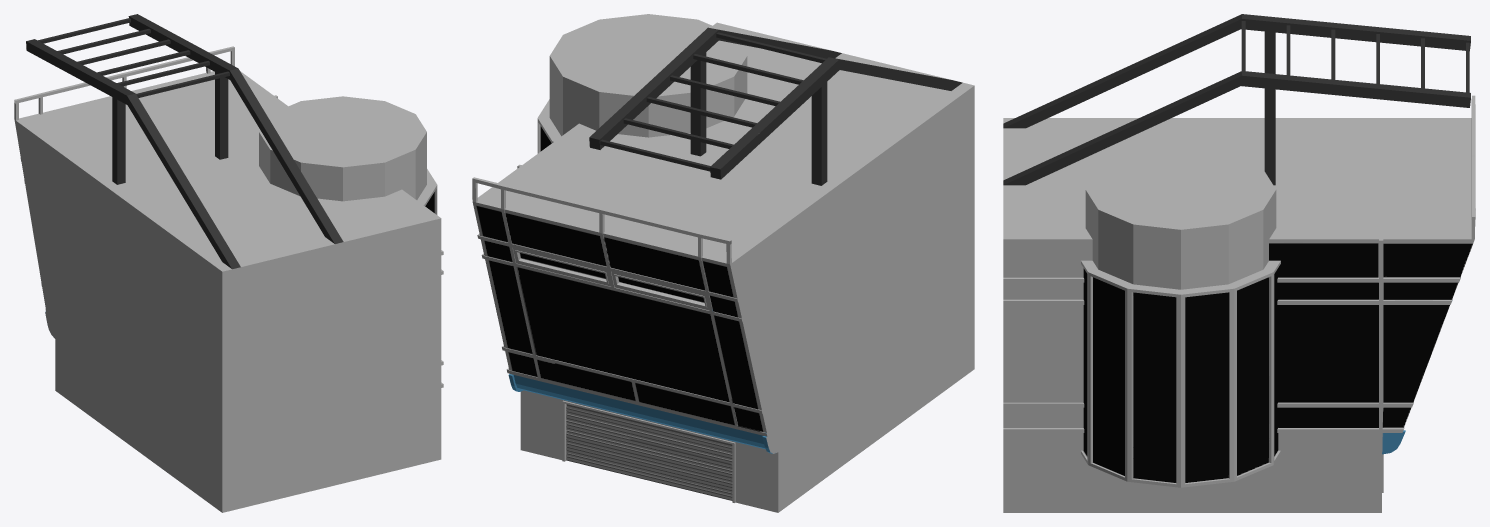
The model's file is pit building side smooth.fbx.
3 views of the same model, side by side, from view 1: azimuth 30°, elevation 25°; view 2: azimuth 150°, elevation 25°; view 3: azimuth 270°, elevation 25° (orthographic). The views are drawn at different scales.
Parts seen in each view (by area): view 1: pit building end.001; view 2: pit building end.001; view 3: pit building end.001.
Boxes of the visible parts, x1,y1,x2,y2 form: pit building end.001: (14,14,443,512); pit building end.001: (472,14,974,512); pit building end.001: (1003,14,1475,512).
Size of the model in its own units: 1249 by 1436 by 1605.
